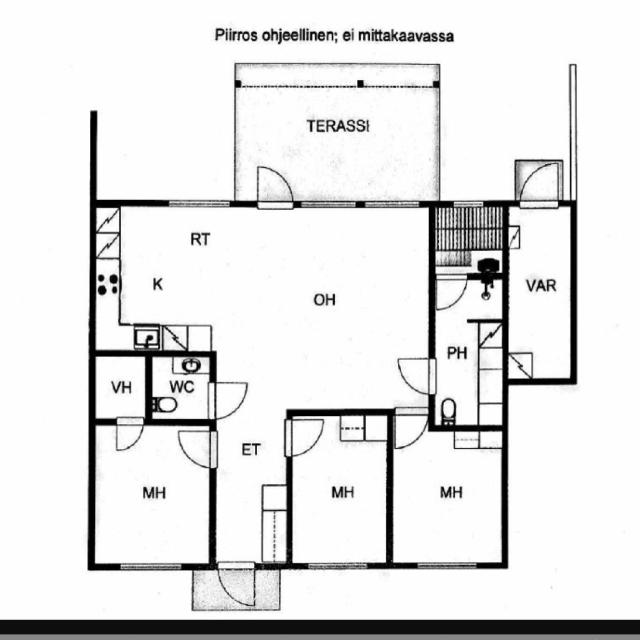door: (391, 352, 442, 398), (516, 159, 562, 209), (252, 161, 296, 209), (283, 414, 328, 459), (204, 377, 252, 419), (174, 426, 217, 470), (216, 561, 256, 607), (431, 268, 470, 313), (390, 408, 429, 452), (112, 416, 146, 454)
window: (163, 194, 235, 213), (113, 558, 189, 576), (302, 558, 374, 576), (359, 194, 424, 213), (295, 195, 363, 213), (411, 558, 482, 574), (450, 199, 486, 209)
zone: (117, 206, 432, 377), (92, 421, 212, 567), (390, 427, 508, 566), (290, 414, 392, 566), (508, 204, 574, 380), (430, 311, 507, 429), (432, 202, 507, 271), (147, 353, 215, 423), (93, 352, 149, 420), (426, 274, 506, 318)
